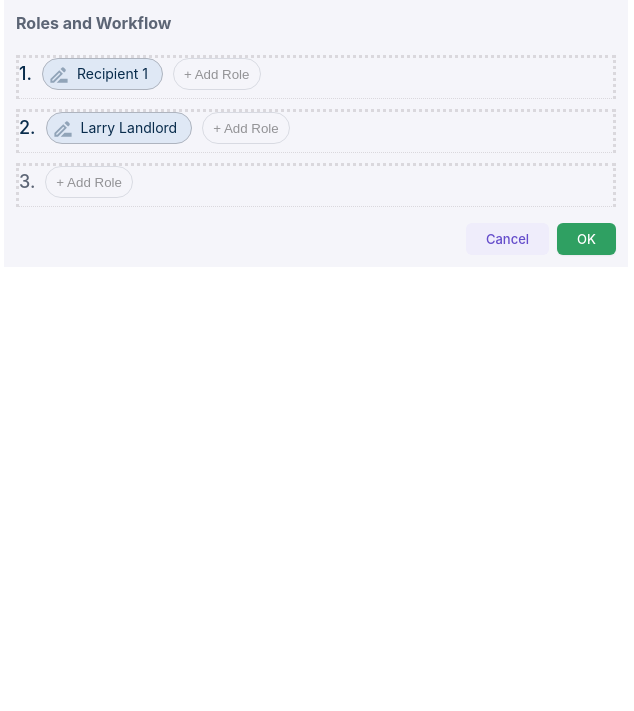
Test case: VerdocsTemplateRolesComponent › opens the role editor from a chip
What coordinates should you click on to do the following:
click the button named "Edit role Recipient 1"
I would click on:
 (59, 75)
Its box is [47,63,71,87].
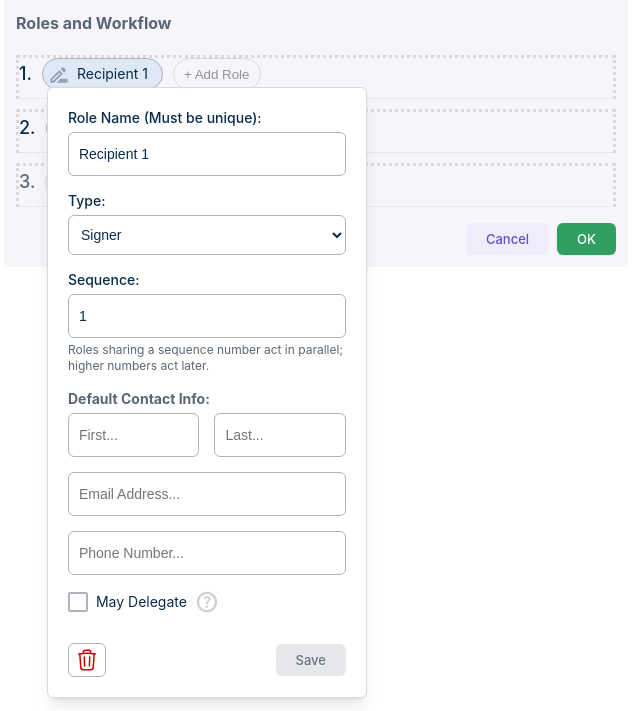
Check: the field with placeholder "Role Name..." holds "Recipient 1", box [68,132,346,176]
